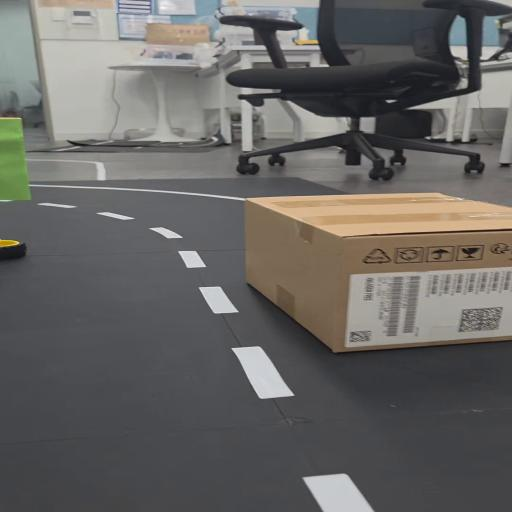Box: (224, 190, 512, 359)
